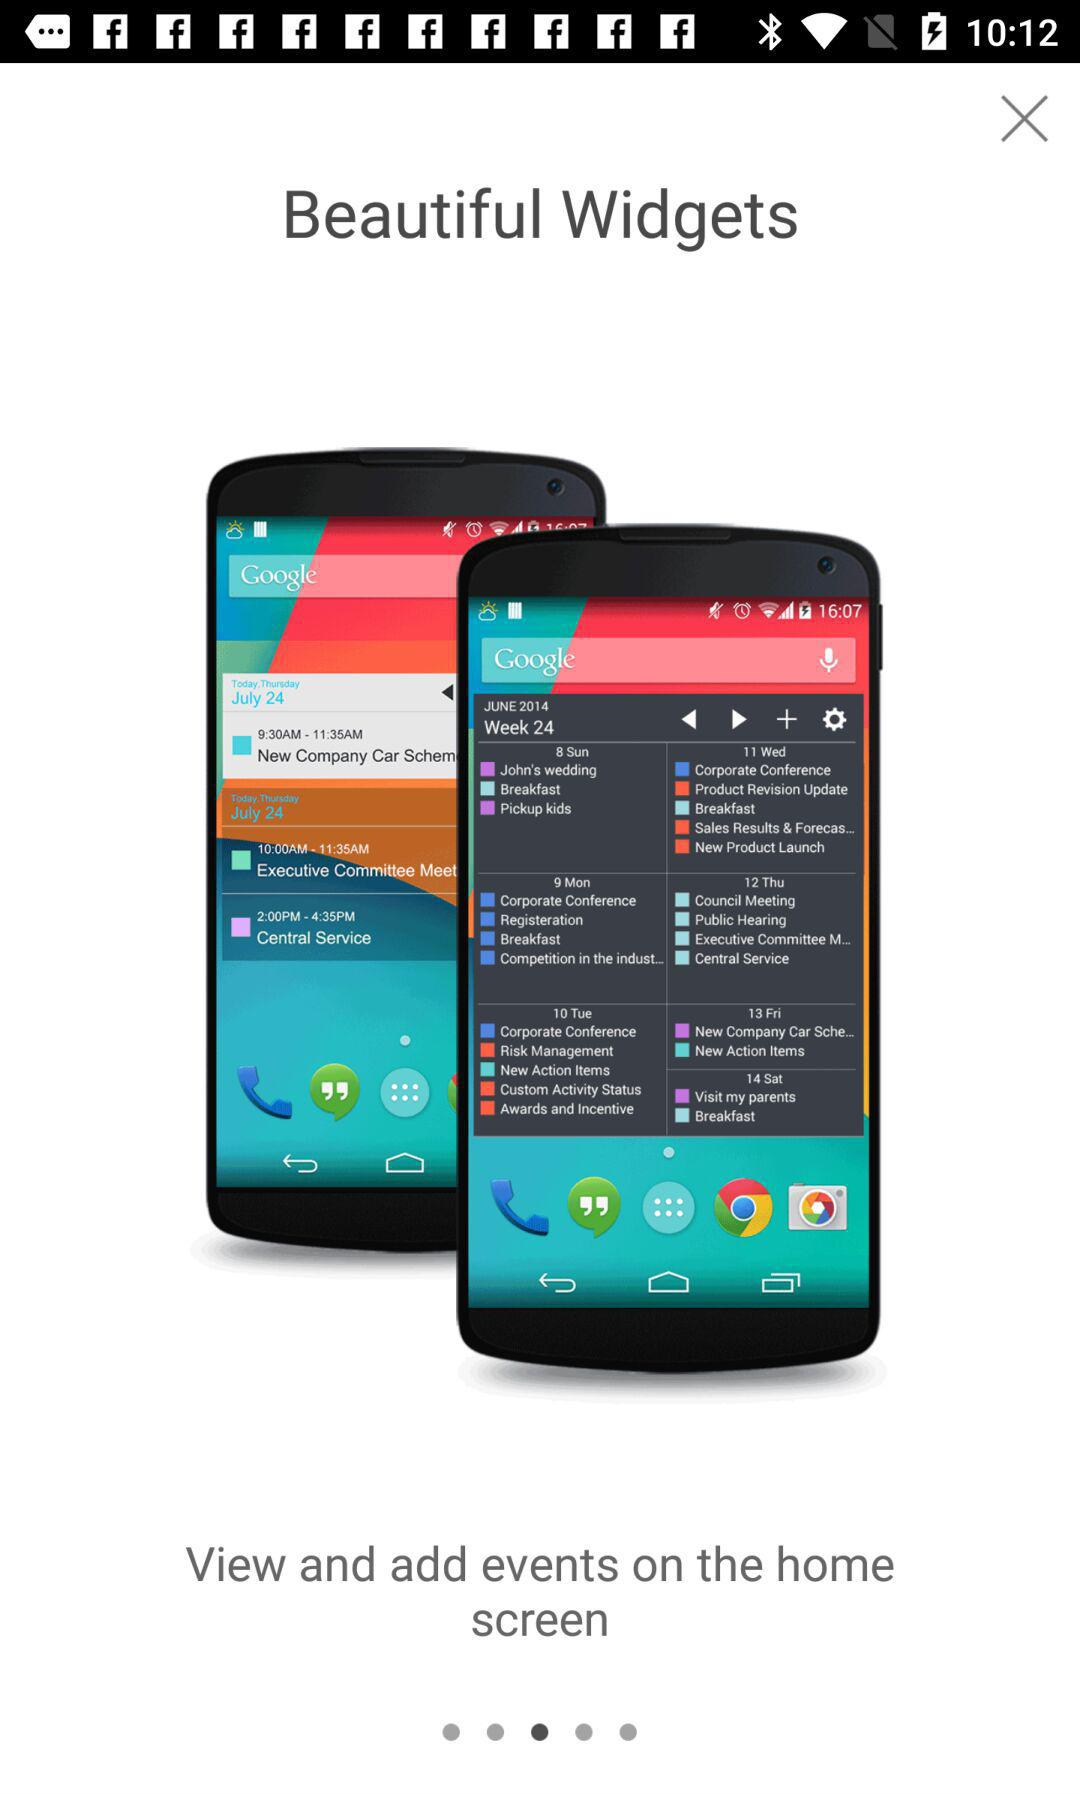Icon: (999, 94, 1051, 144)
Image: (204, 446, 881, 1374)
PageIndicator: (439, 1721, 641, 1744)
Text: (184, 1543, 896, 1642), (284, 185, 797, 252)
UpperTaskBar: (1, 1, 1080, 64)
